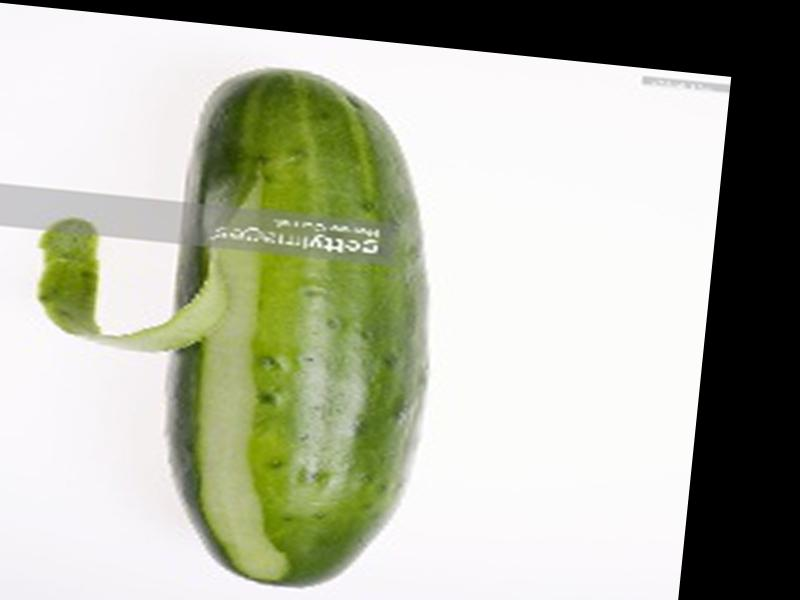Cucumber: (141, 59, 453, 600)
